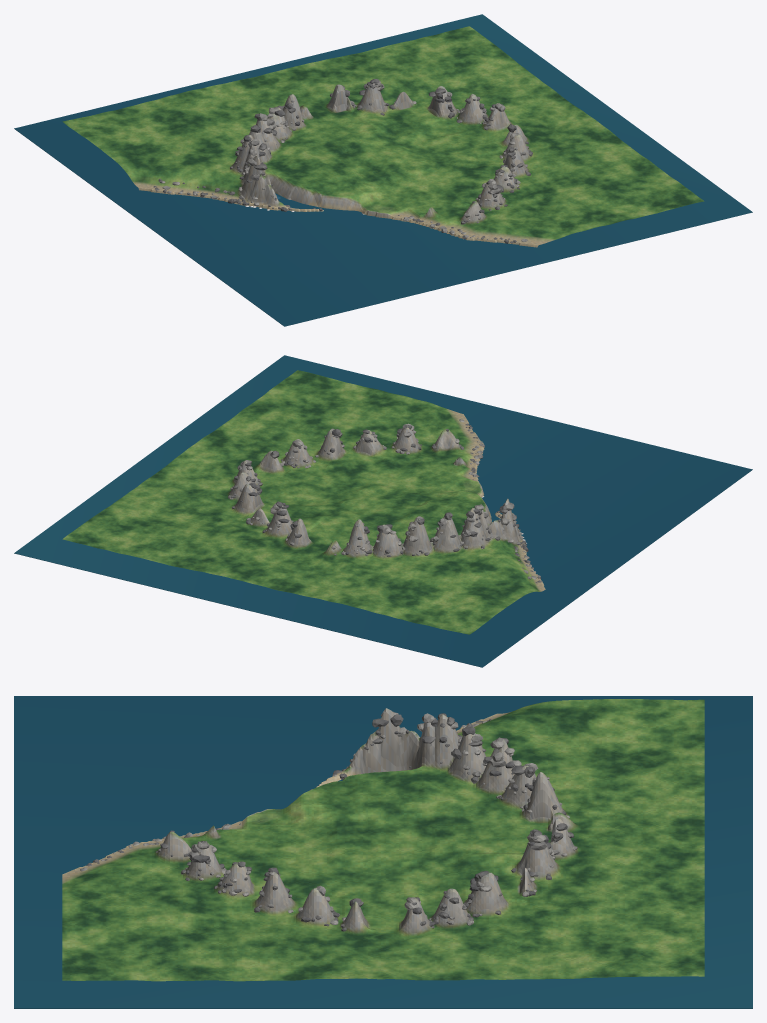
Rendered from Terrain_P1.fbx.
The picture shows the model from 3 angles, top to bottom: view 1: azimuth 30°, elevation 25°; view 2: azimuth 150°, elevation 25°; view 3: azimuth 270°, elevation 25°; orthographic projection. The views are drawn at different scales.
Visible parts, largest first — view 1: Ground, Sea; view 2: Ground, Sea; view 3: Ground, Sea.
Boxes of the visible parts, left/top/right/bottom form: Ground: left=62, top=26, right=704, bottom=247; Sea: left=14, top=14, right=752, bottom=326; Ground: left=62, top=370, right=545, bottom=634; Sea: left=14, top=355, right=752, bottom=667; Ground: left=62, top=699, right=704, bottom=981; Sea: left=14, top=696, right=752, bottom=1008.
Size of the model in its own units: 73600 by 8947 by 73600.
